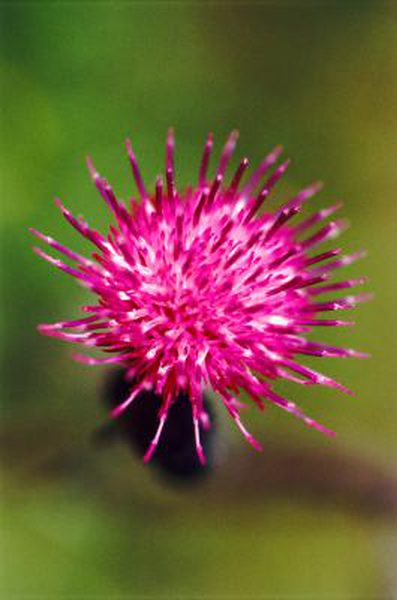thistle: (46, 132, 374, 456)
